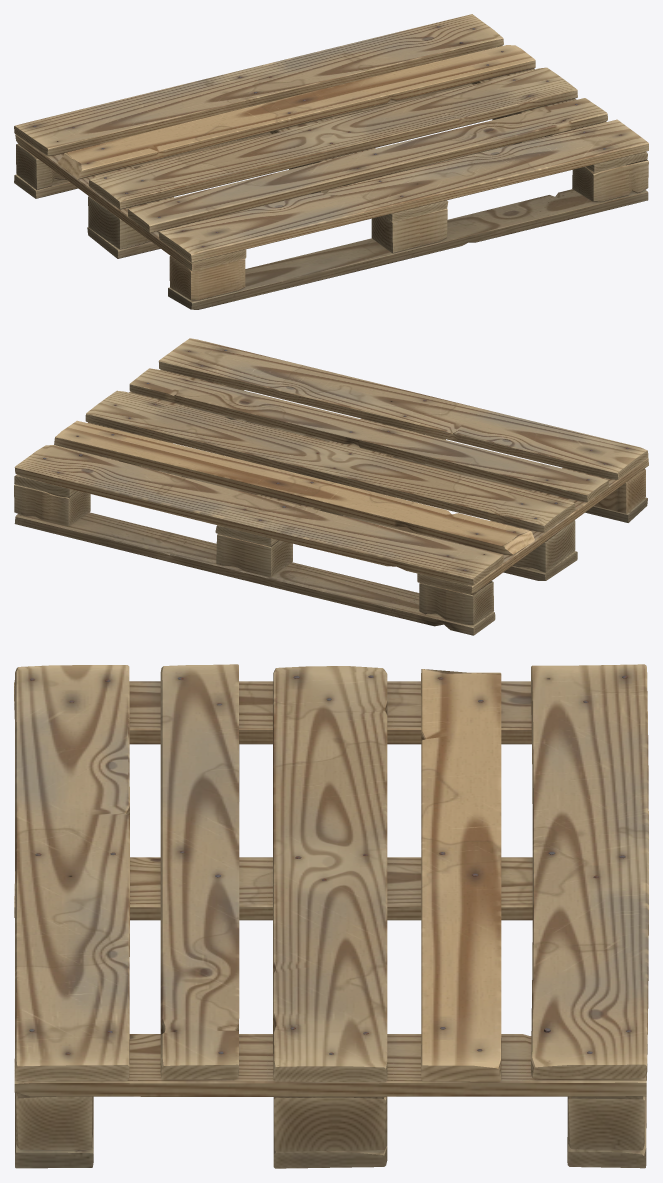
File: pallet_worn_brown.glb
3 views of the same model, one above another, from view 1: azimuth 30°, elevation 25°; view 2: azimuth 150°, elevation 25°; view 3: azimuth 270°, elevation 25° (orthographic). The views are drawn at different scales.
Parts seen in each view (by area): view 1: pallet-worn-brown; view 2: pallet-worn-brown; view 3: pallet-worn-brown.
Boxes of the visible parts, x1,y1,x2,y2 form: pallet-worn-brown: [14, 14, 648, 309]; pallet-worn-brown: [14, 338, 648, 635]; pallet-worn-brown: [14, 664, 648, 1168].
Size of the model in its own units: 1.21 by 0.1496 by 0.8047.
1 material, 1 textured.
